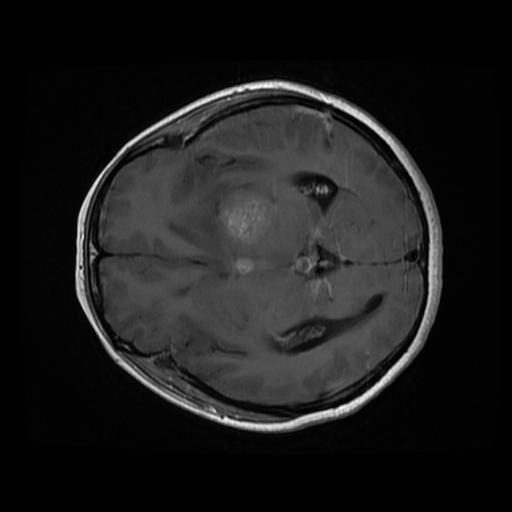glioma: (214, 181, 277, 276)
